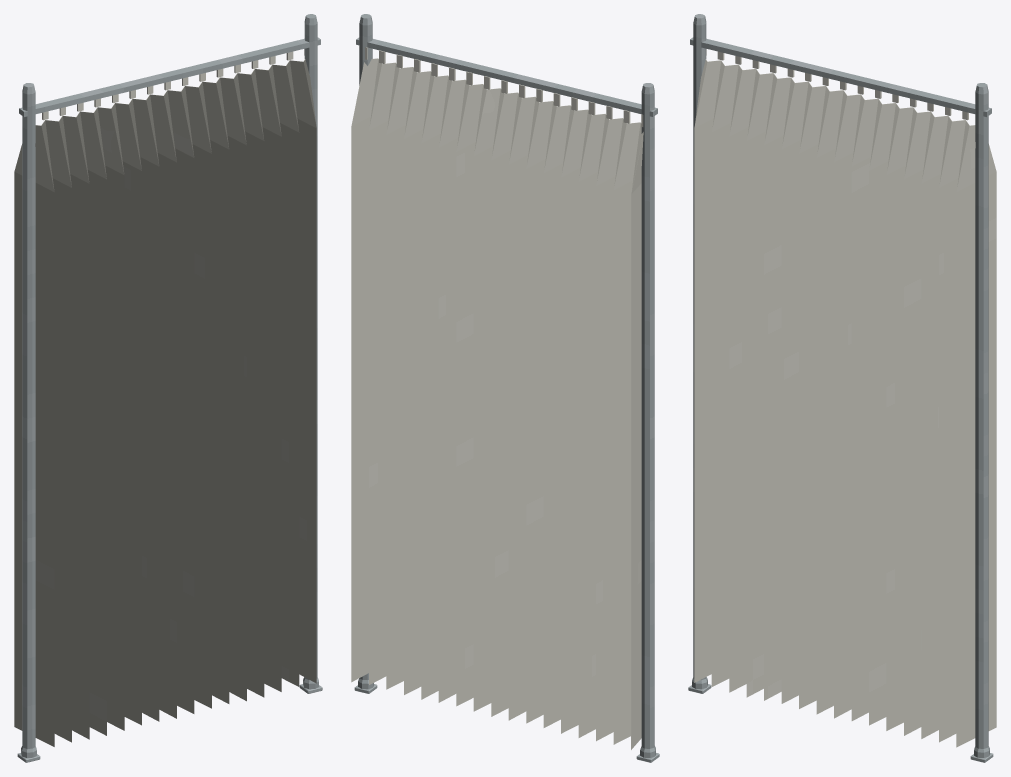
Rendered from pool_curtain_straight.glb.
3 views of the same model, side by side, from view 1: azimuth 30°, elevation 25°; view 2: azimuth 150°, elevation 25°; view 3: azimuth 330°, elevation 25° (orthographic).
Parts seen in each view (by area): view 1: core_pool_curtain_straight; view 2: core_pool_curtain_straight; view 3: core_pool_curtain_straight.
Part boxes in pixels (x1=…): core_pool_curtain_straight: x1=14, y1=14, x2=322, y2=762; core_pool_curtain_straight: x1=351, y1=14, x2=659, y2=762; core_pool_curtain_straight: x1=688, y1=14, x2=996, y2=762.
Size of the model in its own units: 1.2 by 2.6 by 0.22.
Materials: 2 (2 with a texture image).
